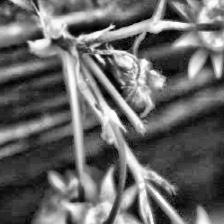Gray Mold: (88, 32, 166, 118)
